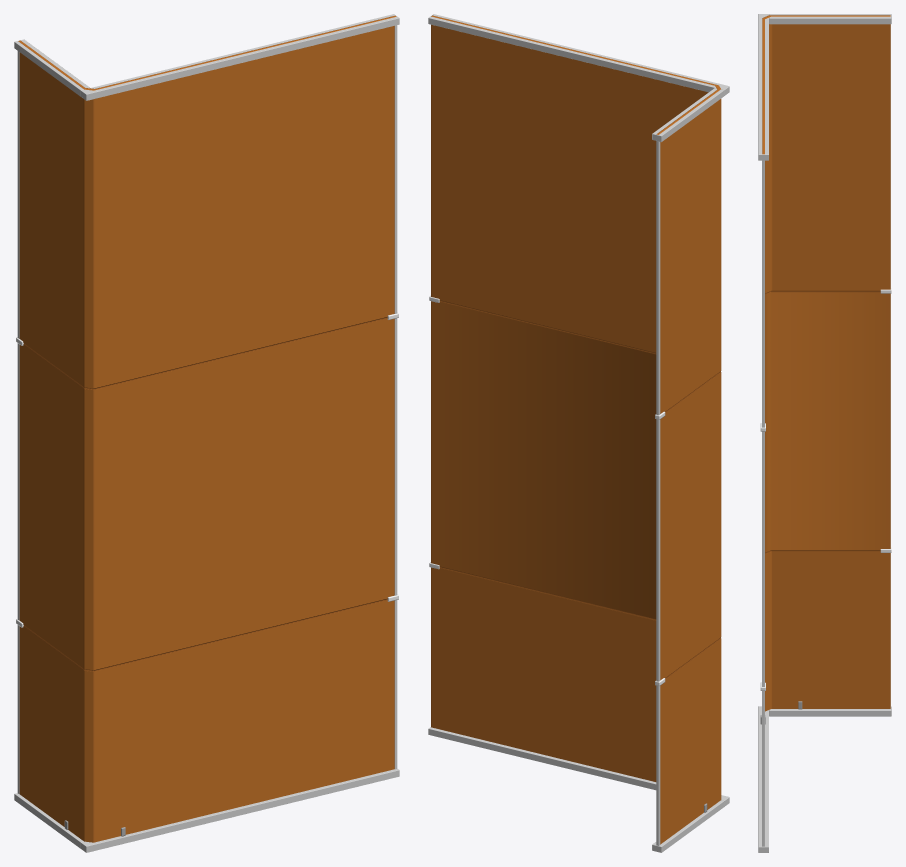
The picture shows the model from 3 angles, left to right: view 1: azimuth 30°, elevation 25°; view 2: azimuth 150°, elevation 25°; view 3: azimuth 270°, elevation 25°; orthographic projection. The views are drawn at different scales.
Visible parts, largest first — view 1: SM_H_Building_FutureTech_Dormitory_02_ExterWall_02; view 2: SM_H_Building_FutureTech_Dormitory_02_ExterWall_02; view 3: SM_H_Building_FutureTech_Dormitory_02_ExterWall_02.
Boxes of the visible parts, box(x1,y1,x2,y2) form: SM_H_Building_FutureTech_Dormitory_02_ExterWall_02: box(14, 14, 399, 852); SM_H_Building_FutureTech_Dormitory_02_ExterWall_02: box(428, 14, 729, 852); SM_H_Building_FutureTech_Dormitory_02_ExterWall_02: box(758, 14, 891, 852).
Size of the model in its own units: 69.73 by 175 by 403.
